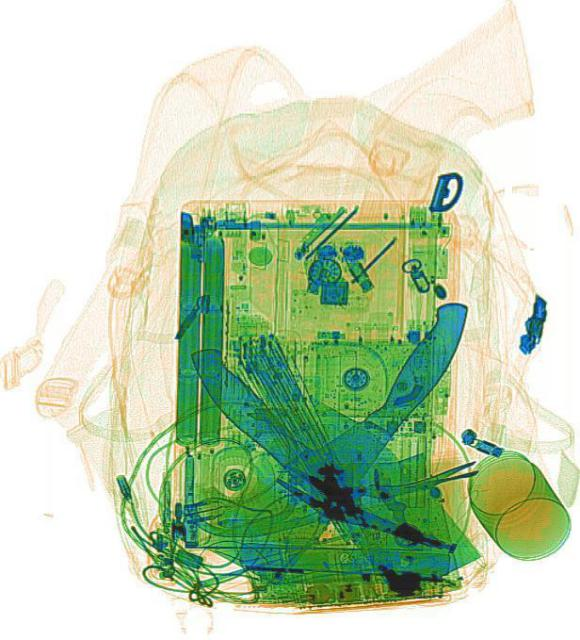Knife: (180, 295, 480, 619), (231, 280, 481, 598)
